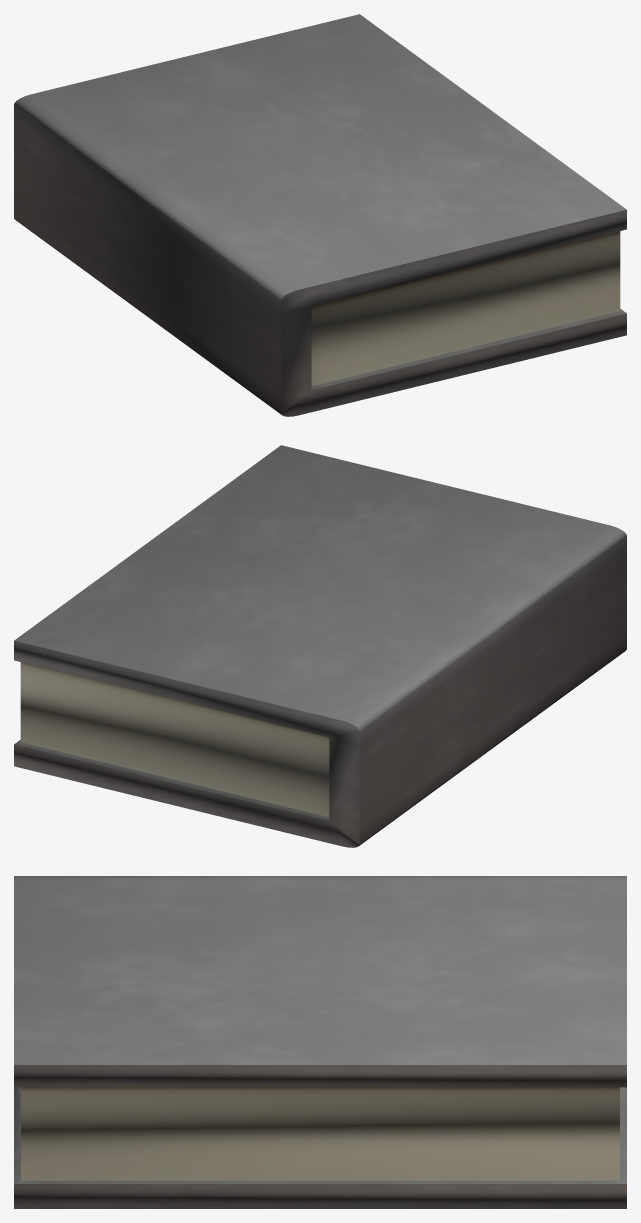
File: ksiega.gltf
3 views of the same model, one above another, from view 1: azimuth 30°, elevation 25°; view 2: azimuth 150°, elevation 25°; view 3: azimuth 270°, elevation 25° (orthographic). The views are drawn at different scales.
Parts seen in each view (by area): view 1: Cube.003; view 2: Cube.003; view 3: Cube.003.
Boxes of the visible parts, x1,y1,x2,y2 form: Cube.003: (14, 14, 626, 416); Cube.003: (14, 445, 626, 847); Cube.003: (14, 876, 626, 1208).
Bounding box in the file's own units: 0.7608 × 0.2641 × 1.02.
Materials: 2 (2 with a texture image).
